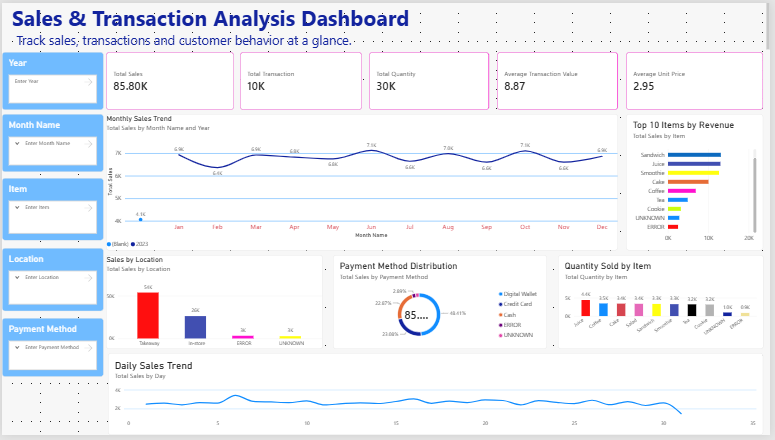

This screenshot's page, from the dashboard's own definition file:
{"tool":"powerbi","page":{"name":"Page 1","canvas":[1920,1080],"ordinal":0},"visuals":[{"type":"textbox","box":[10.7,0,1909.3,123.7],"z":0},{"type":"cardVisual","fields":{"Data":["csv.Total Sales"]},"box":[260.3,123.7,320,145.1],"z":1000},{"type":"cardVisual","fields":{"Data":["csv.Total Transaction"]},"box":[595.2,123.7,305.1,145.1],"z":2000},{"type":"cardVisual","fields":{"Data":["csv.Total Quantity"]},"box":[917.3,123.7,300.8,145.1],"z":3000},{"type":"cardVisual","fields":{"Data":["csv.Average Transaction Value"]},"box":[1237.3,123.7,302.9,145.1],"z":4000},{"type":"cardVisual","fields":{"Data":["csv.Average Unit Price"]},"box":[1559.5,123.7,343.5,145.1],"z":5000},{"type":"lineChart","title":"Monthly Sales Trend","fields":{"Category":["csv.Month Name"],"Series":["csv.Year"],"Y":["csv.Total Sales"]},"box":[260.3,277.3,1280,341.3],"z":6000},{"type":"clusteredBarChart","title":"Top 10 Items by Revenue","fields":{"Category":["csv.Item"],"Y":["csv.Total Sales"]},"box":[1559.5,277.3,343.5,341.3],"z":7000},{"type":"clusteredColumnChart","title":"Sales by Location","fields":{"Category":["csv.Location"],"Y":["csv.Total Sales"]},"box":[260.3,629.3,541.9,234.7],"z":8000},{"type":"donutChart","title":"Payment Method Distribution","fields":{"Category":["csv.Payment Method"],"Y":["csv.Total Sales"]},"box":[827.7,629.3,535.5,234.7],"z":9000},{"type":"clusteredColumnChart","title":"Quantity Sold by Item","fields":{"Category":["csv.Item"],"Y":["csv.Total Quantity"]},"box":[1388.8,629.3,514.1,234.7],"z":10000},{"type":"lineChart","title":"Daily Sales Trend","fields":{"Category":["csv.Transaction Date.Variation.Date Hierarchy.Day"],"Y":["csv.Total Sales"]},"box":[264.5,874.7,1638.4,204.8],"z":11000},{"type":"textSlicer","fields":{"Values":["csv.Year"]},"box":[0,123.7,253.9,145.1],"z":12000},{"type":"textSlicer","fields":{"Values":["csv.Location"]},"box":[0,612.3,253.9,157.9],"z":13000},{"type":"textSlicer","fields":{"Values":["csv.Month Name"]},"box":[0,277.3,253.9,145.1],"z":14000},{"type":"textSlicer","fields":{"Values":["csv.Item"]},"box":[0,437.3,253.9,155.7],"z":15000},{"type":"textSlicer","fields":{"Values":["csv.Payment Method"]},"box":[0,787.2,253.9,147.2],"z":16000}]}

Visuals, with their boxes in screenshot pixels (x1, y1, x2, y2), scaled from the page's 1920x1080 canvas onto the 775x440 screenshot:
textbox: [x1=4, y1=0, x2=774, y2=50]
cardVisual - csv.Total Sales: [x1=105, y1=50, x2=234, y2=110]
cardVisual - csv.Total Transaction: [x1=240, y1=50, x2=363, y2=110]
cardVisual - csv.Total Quantity: [x1=370, y1=50, x2=492, y2=110]
cardVisual - csv.Average Transaction Value: [x1=499, y1=50, x2=622, y2=110]
cardVisual - csv.Average Unit Price: [x1=629, y1=50, x2=768, y2=110]
"Monthly Sales Trend" lineChart: [x1=105, y1=113, x2=622, y2=252]
"Top 10 Items by Revenue" clusteredBarChart: [x1=629, y1=113, x2=768, y2=252]
"Sales by Location" clusteredColumnChart: [x1=105, y1=256, x2=324, y2=352]
"Payment Method Distribution" donutChart: [x1=334, y1=256, x2=550, y2=352]
"Quantity Sold by Item" clusteredColumnChart: [x1=561, y1=256, x2=768, y2=352]
"Daily Sales Trend" lineChart: [x1=107, y1=356, x2=768, y2=439]
textSlicer - csv.Year: [x1=0, y1=50, x2=102, y2=110]
textSlicer - csv.Location: [x1=0, y1=249, x2=102, y2=314]
textSlicer - csv.Month Name: [x1=0, y1=113, x2=102, y2=172]
textSlicer - csv.Item: [x1=0, y1=178, x2=102, y2=242]
textSlicer - csv.Payment Method: [x1=0, y1=321, x2=102, y2=381]
